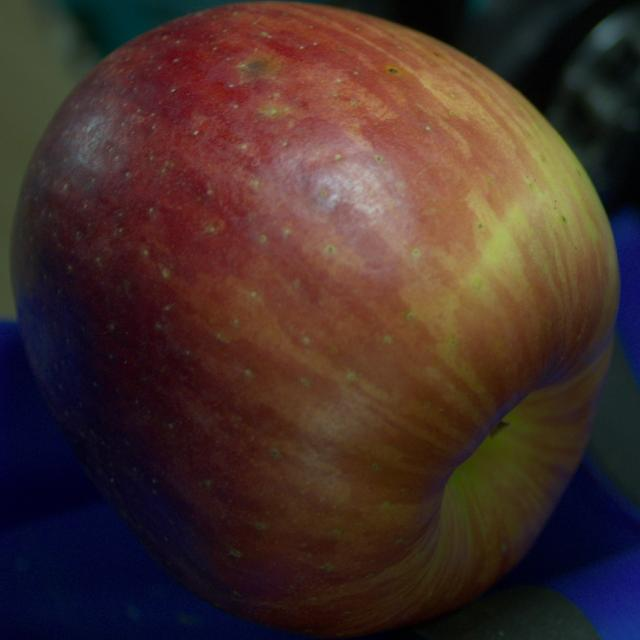apple: (12, 2, 618, 637)
bruise: (238, 50, 285, 85)
pest: (389, 68, 398, 72)
